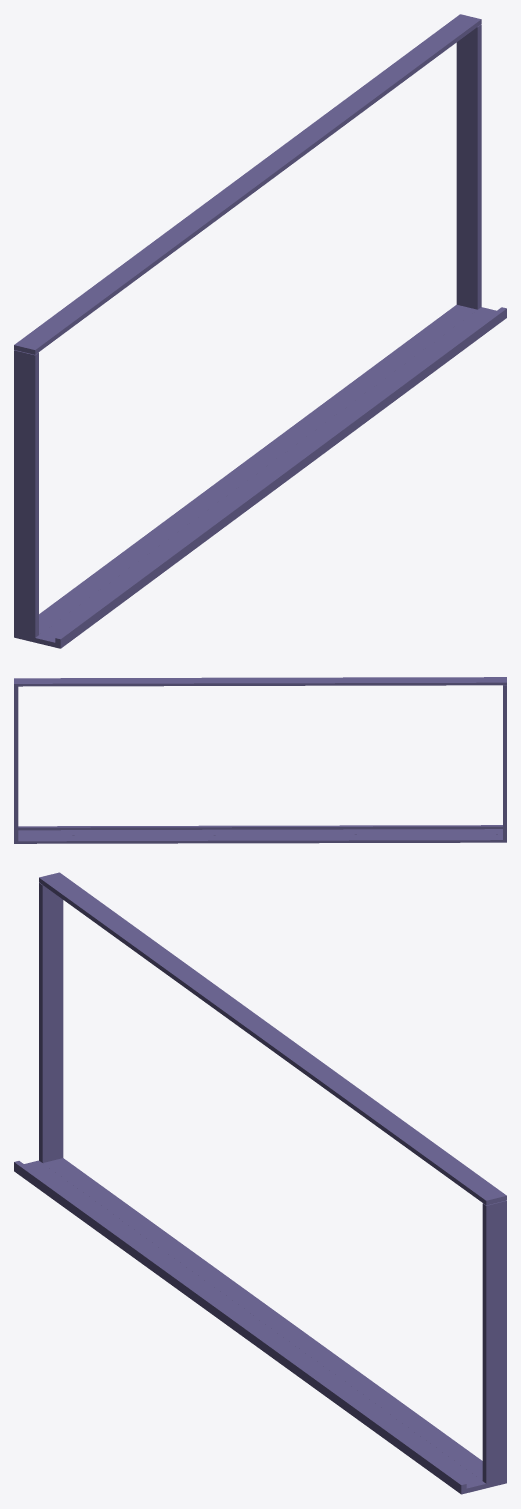
Rendered from WhiteBoardBorder.fbx.
The picture shows the model from 3 angles, top to bottom: view 1: azimuth 30°, elevation 25°; view 2: azimuth 150°, elevation 25°; view 3: azimuth 270°, elevation 25°; orthographic projection. The views are drawn at different scales.
Parts seen in each view (by area): view 1: Border__4_; view 2: Border__4_; view 3: Border__4_.
Part boxes in pixels (x1,y1,x2,y2): Border__4_: (14, 14, 506, 648); Border__4_: (14, 677, 506, 843); Border__4_: (14, 872, 506, 1494).
Bounding box in the file's own units: 329 × 132 × 205.
